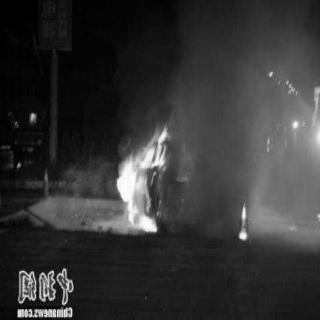Fire: (116, 120, 172, 232)
Smoke: (185, 33, 251, 147)
other: (266, 68, 302, 98), (43, 166, 51, 197), (291, 114, 303, 128), (312, 126, 320, 146), (27, 108, 36, 125), (268, 130, 272, 154)
